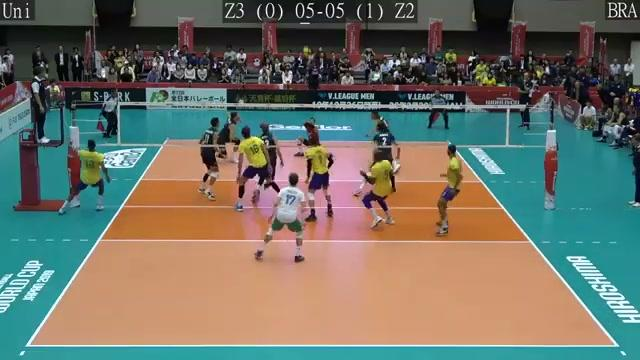ball: (301, 47, 313, 59)
